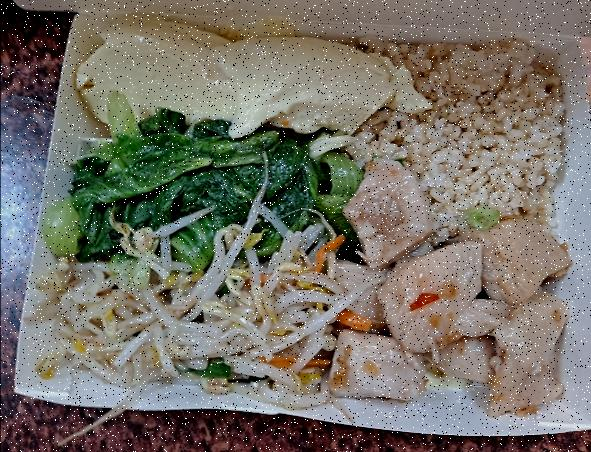box: (3, 7, 591, 434)
brown rice: (342, 48, 556, 216)
scallion chicken: (332, 198, 553, 416)
side dish: (74, 15, 394, 137), (50, 132, 339, 262), (43, 262, 332, 380)
